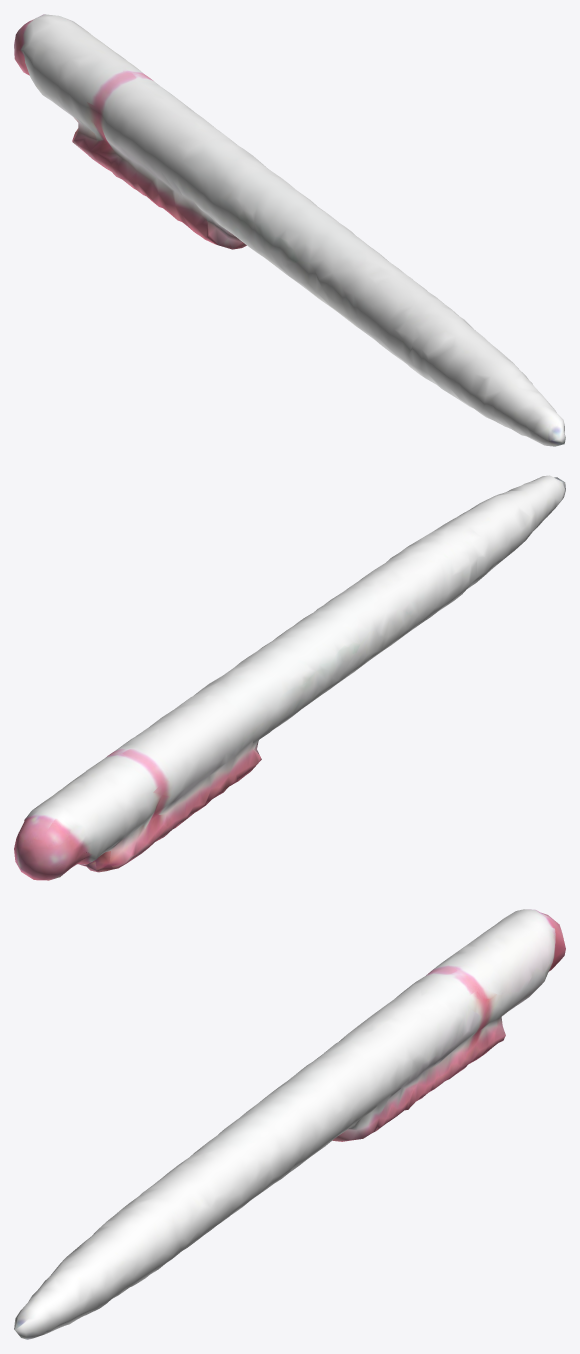
The model's file is scan_align.obj.
3 renders of one model, top to bottom at view 1: azimuth 30°, elevation 25°; view 2: azimuth 150°, elevation 25°; view 3: azimuth 330°, elevation 25°, orthographic.
Size of the model in its own units: 0.0105 by 0.0133 by 0.1399.
1 material, 1 textured.
